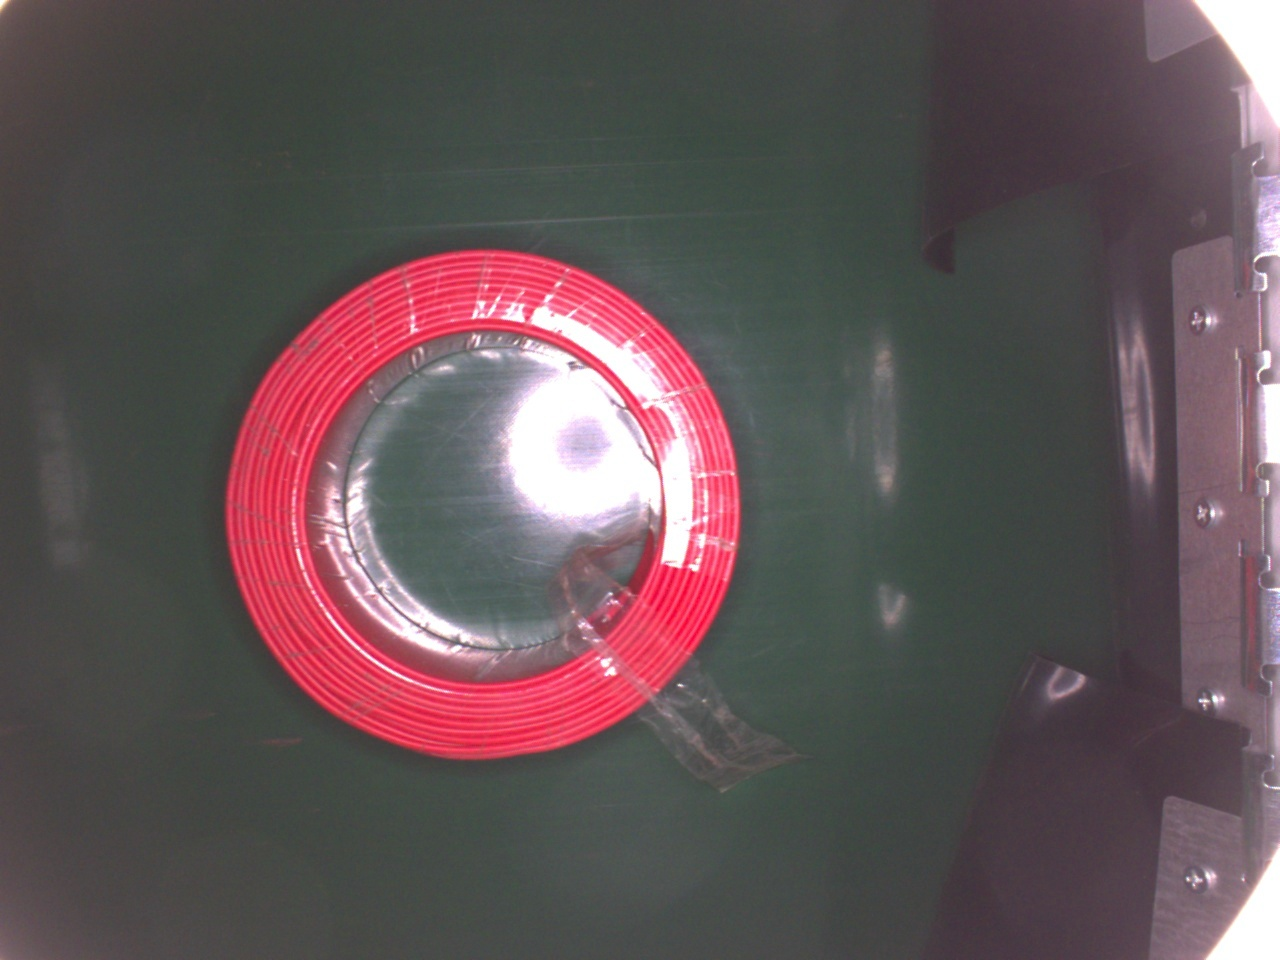red: (225, 239, 747, 756)
